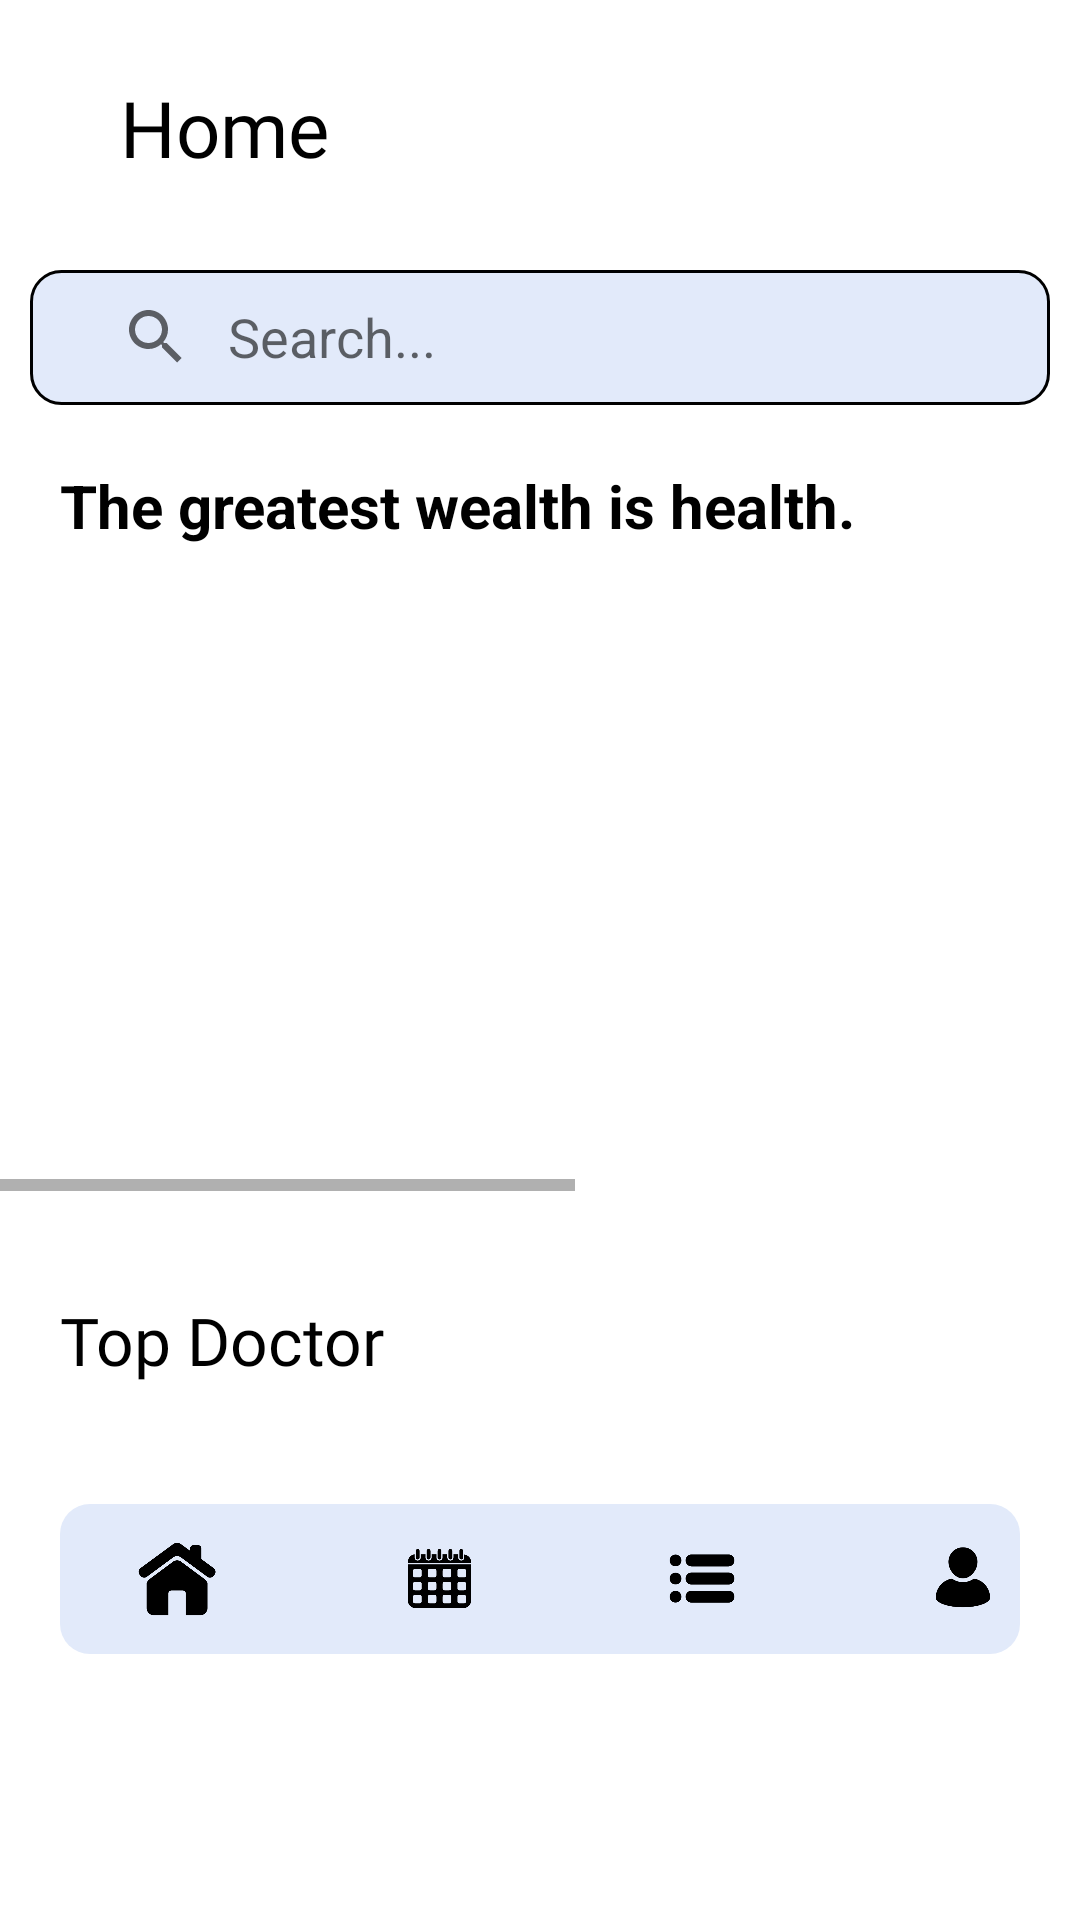

Where icons sit on this 1080×1920 app screen, as (x1=x1, y1=y1, x2=x2, y2=y2):
appointment: (x1=408, y1=1549, x2=471, y2=1608)
home: (x1=138, y1=1543, x2=216, y2=1615)
option: (x1=670, y1=1554, x2=735, y2=1603)
